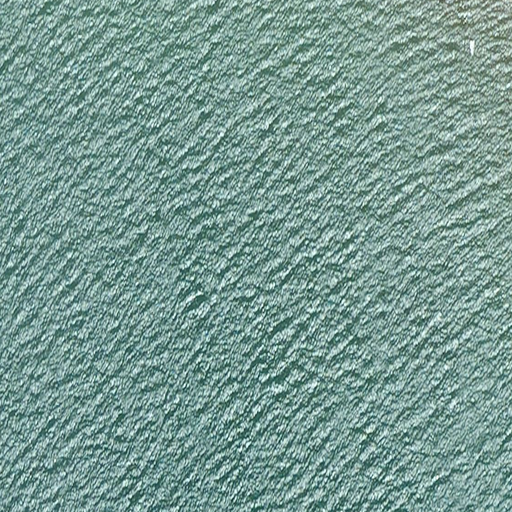ship: (468, 40, 477, 56)
